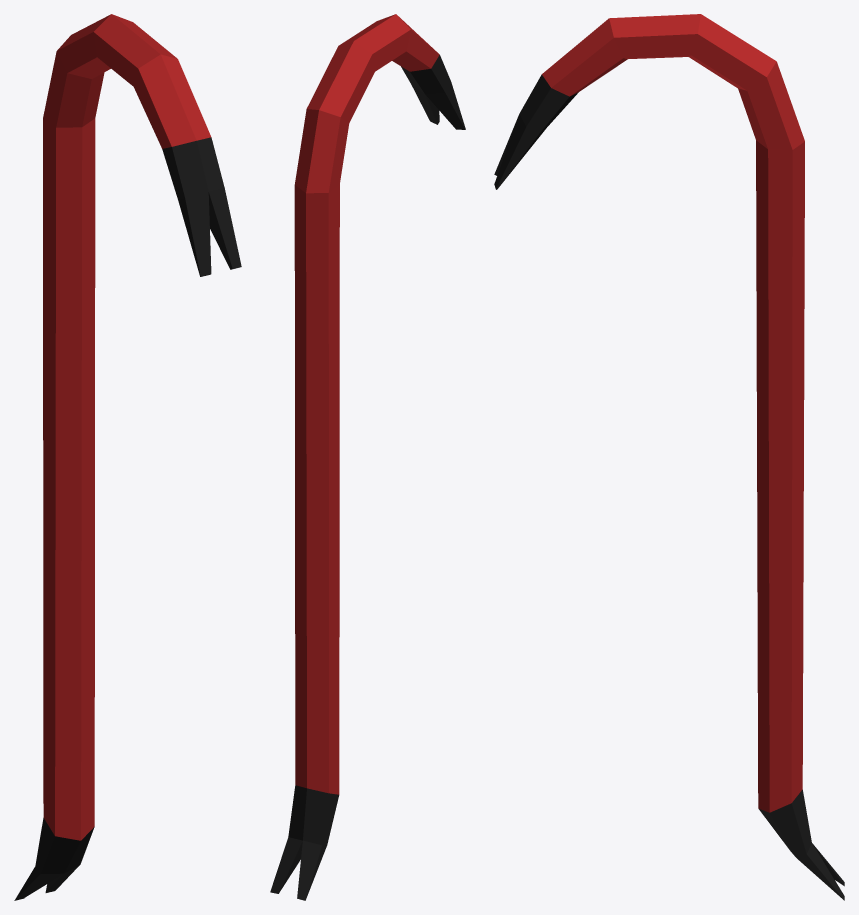
Rendered from Crowbar.glb.
The picture shows the model from 3 angles, left to right: view 1: azimuth 30°, elevation 25°; view 2: azimuth 150°, elevation 25°; view 3: azimuth 270°, elevation 25°; orthographic projection. The views are drawn at different scales.
Visible parts, largest first — view 1: Crowbar; view 2: Crowbar; view 3: Crowbar.
Boxes of the visible parts, x1,y1,x2,y2 form: Crowbar: (14, 14, 241, 900); Crowbar: (270, 14, 465, 900); Crowbar: (494, 14, 844, 900).
Size of the model in its own units: 0.0306 by 0.6684 by 0.2419.
